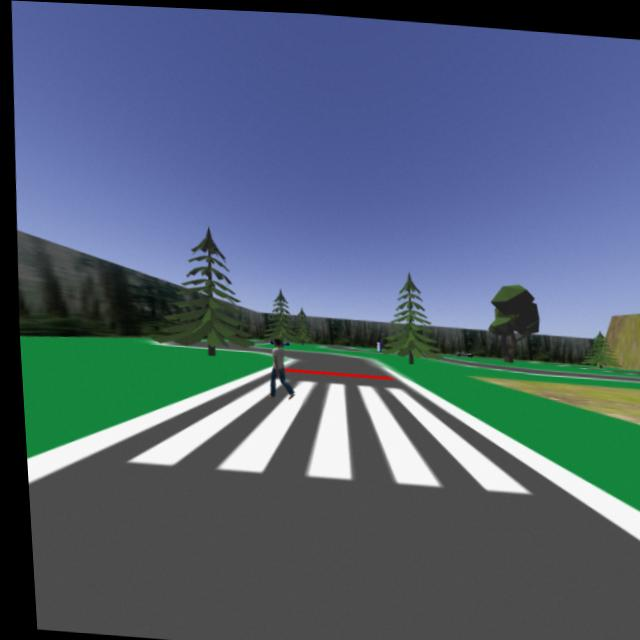pedestrian: (264, 335, 294, 400)
